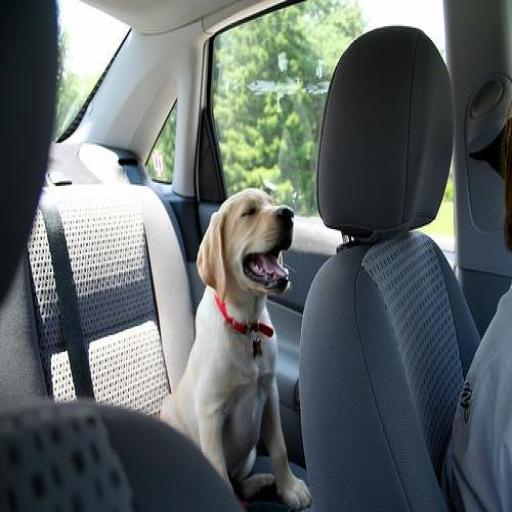dog_face: (198, 186, 297, 314)
